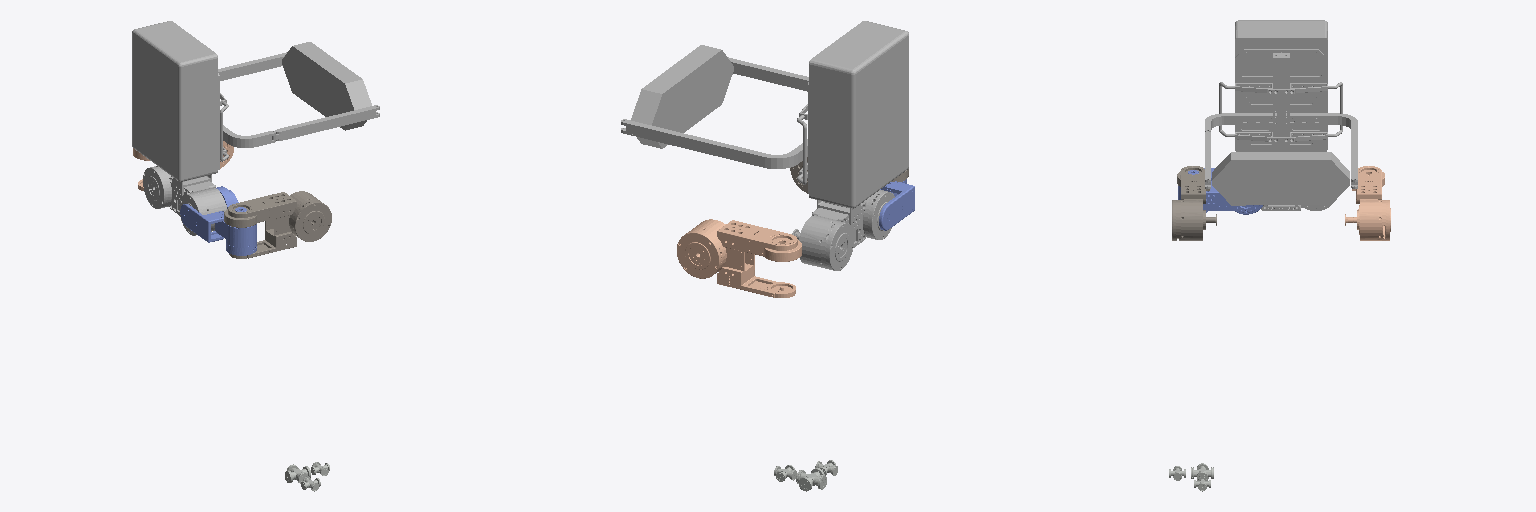
The robot description file, URDF, robot "SIAT":
<?xml version="1.0" encoding="utf-8"?>
<!-- This URDF was automatically created by SolidWorks to URDF Exporter! Originally created by [author] ([email redacted]) 
     Commit Version: 1.6.0-4-g7f85cfe  Build Version: 1.6.7995.38578
     For more information, please see http://wiki.ros.org/sw_urdf_exporter -->
<robot
  name="SIAT">
  <link
    name="base_link">
    <inertial>
      <origin
        xyz="0.32283 0.0054798 0.19053"
        rpy="0 0 0" />
      <mass
        value="11.483" />
      <inertia
        ixx="0.10681"
        ixy="-0.007053"
        ixz="-0.00047763"
        iyy="0.1025"
        iyz="6.0356E-05"
        izz="0.12332" />
    </inertial>
    <visual>
      <origin
        xyz="0 0 0"
        rpy="0 0 0" />
      <geometry>
        <mesh
          filename="../meshes/base_link.STL" />
      </geometry>
      <material
        name="">
        <color
          rgba="0.75294 0.75294 0.75294 1" />
      </material>
    </visual>
    <collision>
      <origin
        xyz="0 0 0"
        rpy="0 0 0" />
      <geometry>
        <mesh
          filename="../meshes/base_link.STL" />
      </geometry>
    </collision>
  </link>
  <link
    name="r_1">
    <inertial>
      <origin
        xyz="0.079905 -0.0081434 0.026887"
        rpy="0 0 0" />
      <mass
        value="2.8322" />
      <inertia
        ixx="0.0025127"
        ixy="0.00039573"
        ixz="-7.1211E-05"
        iyy="0.0065445"
        iyz="-5.6669E-05"
        izz="0.0072351" />
    </inertial>
    <visual>
      <origin
        xyz="0 0 0"
        rpy="0 0 0" />
      <geometry>
        <mesh
          filename="../meshes/r_1.STL" />
      </geometry>
      <material
        name="">
        <color
          rgba="0.5451 0.61569 0.85882 1" />
      </material>
    </visual>
  </link>
  <joint
    name="joint_r_1"
    type="revolute">
    <origin
      xyz="0 0.105 0"
      rpy="1.5708 0 1.5708" />
    <parent
      link="base_link" />
    <child
      link="r_1" />
    <axis
      xyz="0 0 -1" />
    <limit
      lower="-0.5236"
      upper="0.69813"
      effort="300"
      velocity="10" />
  </joint>
  <link
    name="r_2">
    <inertial>
      <origin
        xyz="0.11644 0.0055321 0.028381"
        rpy="0 0 0" />
      <mass
        value="4.2266" />
      <inertia
        ixx="0.0044533"
        ixy="7.1351E-05"
        ixz="-8.8635E-05"
        iyy="0.012089"
        iyz="-2.3903E-05"
        izz="0.012074" />
    </inertial>
    <visual>
      <origin
        xyz="0 0 0"
        rpy="0 0 0" />
      <geometry>
        <mesh
          filename="../meshes/r_2.STL" />
      </geometry>
      <material
        name="">
        <color
          rgba="0.92941 0.76863 0.67059 1" />
      </material>
    </visual>

  </link>
  <joint
    name="joint_r_2"
    type="revolute">
    <origin
      xyz="0.159 0 0"
      rpy="-1.5708 -1.5708 0" />
    <parent
      link="r_1" />
    <child
      link="r_2" />
    <axis
      xyz="0 0 -1" />
    <limit
      lower="-0.38397"
      upper="0.5236"
      effort="300"
      velocity="10" />
  </joint>
  <link
    name="r_3">
    <inertial>
      <origin
        xyz="0.22207 0.00020696 -0.026349"
        rpy="0 0 0" />
      <mass
        value="11.84" />
      <inertia
        ixx="0.014461"
        ixy="-0.00099269"
        ixz="-0.0049046"
        iyy="0.1909"
        iyz="0.00030176"
        izz="0.20128" />
    </inertial>
    <visual>
      <origin
        xyz="0 0 0"
        rpy="0 0 0" />
      <geometry>
        <mesh
          filename="../meshes/r_3.STL" />
      </geometry>
      <material
        name="">
        <color
          rgba="0.8902 0.71765 0.58824 1" />
      </material>
    </visual>

  </link>
  <joint
    name="joint_r_3"
    type="revolute">
    <origin
      xyz="0.205 0 0"
      rpy="-1.5708 1.5708 0" />
    <parent
      link="r_2" />
    <child
      link="r_3" />
    <axis
      xyz="0 0 1" />
    <limit
      lower="-0.69813"
      upper="0.2618"
      effort="300"
      velocity="10" />
  </joint>
  <link
    name="r_4">
    <inertial>
      <origin
        xyz="0.12085 0.011457 -0.024406"
        rpy="0 0 0" />
      <mass
        value="3.321" />
      <inertia
        ixx="0.0027063"
        ixy="-0.00041011"
        ixz="-0.00092136"
        iyy="0.013003"
        iyz="-7.9616E-05"
        izz="0.012137" />
    </inertial>
    <visual>
      <origin
        xyz="0 0 0"
        rpy="0 0 0" />
      <geometry>
        <mesh
          filename="../meshes/r_4.STL" />
      </geometry>
      <material
        name="">
        <color
          rgba="0.75294 1 1 1" />
      </material>
    </visual>

  </link>
  <joint
    name="joint_r_4"
    type="revolute">
    <origin
      xyz="0.44 0 0"
      rpy="0 0 0" />
    <parent
      link="r_3" />
    <child
      link="r_4" />
    <axis
      xyz="0 0 1" />
    <limit
      lower="-0.052399"
      upper="1.2217"
      effort="300"
      velocity="10" />
  </joint>
  <link
    name="r_5">
    <inertial>
      <origin
        xyz="-0.000208 -0.015363 -0.011661"
        rpy="0 0 0" />
      <mass
        value="0.11725" />
      <inertia
        ixx="3.2429E-05"
        ixy="3.1988E-10"
        ixz="6.8398E-11"
        iyy="2.1488E-05"
        iyz="5.1115E-16"
        izz="2.1496E-05" />
    </inertial>
    <visual>
      <origin
        xyz="0 0 0"
        rpy="0 0 0" />
      <geometry>
        <mesh
          filename="../meshes/r_5.STL" />
      </geometry>
      <material
        name="">
        <color
          rgba="0.92157 0.88235 0.64314 1" />
      </material>
    </visual>

  </link>
  <joint
    name="joint_r_5"
    type="revolute">
    <origin
      xyz="0.4 0 0"
      rpy="0 0 0" />
    <parent
      link="r_4" />
    <child
      link="r_5" />
    <axis
      xyz="0 0 1" />
    <limit
      lower="-0.62831"
      upper="0.69813"
      effort="300"
      velocity="10" />
  </joint>
  <link
    name="r_6">
    <inertial>
      <origin
        xyz="0.094957 -0.049767 0.038082"
        rpy="0 0 0" />
      <mass
        value="1.4525" />
      <inertia
        ixx="0.0098192"
        ixy="7.9321E-05"
        ixz="-2.2112E-05"
        iyy="0.0068454"
        iyz="0.0002905"
        izz="0.0033135" />
    </inertial>
    <visual>
      <origin
        xyz="0 0 0"
        rpy="0 0 0" />
      <geometry>
        <mesh
          filename="../meshes/r_6.STL" />
      </geometry>
      <material
        name="">
        <color
          rgba="0.75294 0.75294 0.75294 1" />
      </material>
    </visual>
    <collision>
      <origin
        xyz="0 0 0"
        rpy="0 0 0" />
      <geometry>
        <mesh
          filename="../meshes/r_6.STL" />
      </geometry>
    </collision>
  </link>
  <joint
    name="joint_r_6"
    type="revolute">
    <origin
      xyz="0 0 -0.0275"
      rpy="1.5708 0 0" />
    <parent
      link="r_5" />
    <child
      link="r_6" />
    <axis
      xyz="0 0 -1" />
    <limit
      lower="-0.43633"
      upper="0.34907"
      effort="300"
      velocity="10" />
  </joint>
  <link
    name="l_1">
    <inertial>
      <origin
        xyz="0.08002 0.0081433 0.026963"
        rpy="0 0 0" />
      <mass
        value="2.8322" />
      <inertia
        ixx="0.0025118"
        ixy="-0.00039481"
        ixz="-7.0805E-05"
        iyy="0.0065445"
        iyz="5.728E-05"
        izz="0.007236" />
    </inertial>
    <visual>
      <origin
        xyz="0 0 0"
        rpy="0 0 0" />
      <geometry>
        <mesh
          filename="../meshes/l_1.STL" />
      </geometry>
      <material
        name="">
        <color
          rgba="0.5451 0.61569 0.85882 1" />
      </material>
    </visual>
  </link>
  <joint
    name="joint_l_1"
    type="revolute">
    <origin
      xyz="0 -0.105 0"
      rpy="-1.5708 0 -1.5708" />
    <parent
      link="base_link" />
    <child
      link="l_1" />
    <axis
      xyz="0 0 -1" />
    <limit
      lower="-0.69813"
      upper="0.5236"
      effort="300"
      velocity="10" />
  </joint>
  <link
    name="l_2">
    <inertial>
      <origin
        xyz="0.11644 -0.0055321 0.028383"
        rpy="0 0 0" />
      <mass
        value="4.2266" />
      <inertia
        ixx="0.0044012"
        ixy="-7.2688E-05"
        ixz="-0.00010249"
        iyy="0.012089"
        iyz="2.2164E-05"
        izz="0.012126" />
    </inertial>
    <visual>
      <origin
        xyz="0 0 0"
        rpy="0 0 0" />
      <geometry>
        <mesh
          filename="../meshes/l_2.STL" />
      </geometry>
      <material
        name="">
        <color
          rgba="0.64706 0.61961 0.58824 1" />
      </material>
    </visual>
  </link>
  <joint
    name="joint_l_2"
    type="revolute">
    <origin
      xyz="0.159 0 0"
      rpy="1.5708 -1.5708 0" />
    <parent
      link="l_1" />
    <child
      link="l_2" />
    <axis
      xyz="0 0 -1" />
    <limit
      lower="-0.5236"
      upper="0.38397"
      effort="300"
      velocity="10" />
  </joint>
  <link
    name="l_3">
    <inertial>
      <origin
        xyz="0.22192 0.00017641 0.030643"
        rpy="0 0 0" />
      <mass
        value="11.835" />
      <inertia
        ixx="0.014422"
        ixy="-0.00098286"
        ixz="0.0049082"
        iyy="0.19094"
        iyz="-0.00029818"
        izz="0.20127" />
    </inertial>
    <visual>
      <origin
        xyz="0 0 0"
        rpy="0 0 0" />
      <geometry>
        <mesh
          filename="../meshes/l_3.STL" />
      </geometry>
      <material
        name="">
        <color
          rgba="0.8902 0.71765 0.58824 1" />
      </material>
    </visual>

  </link>
  <joint
    name="joint_l_3"
    type="revolute">
    <origin
      xyz="0.205 -0.0042446 0"
      rpy="-1.5708 1.5708 0" />
    <parent
      link="l_2" />
    <child
      link="l_3" />
    <axis
      xyz="0 0 -1" />
    <limit
      lower="-0.69813"
      upper="0.2618"
      effort="300"
      velocity="10" />
  </joint>
  <link
    name="l_4">
    <inertial>
      <origin
        xyz="0.12027 0.011268 0.028835"
        rpy="0 0 0" />
      <mass
        value="3.3252" />
      <inertia
        ixx="0.0027061"
        ixy="-0.00041124"
        ixz="0.00092324"
        iyy="0.013004"
        iyz="7.962E-05"
        izz="0.012137" />
    </inertial>
    <visual>
      <origin
        xyz="0 0 0"
        rpy="0 0 0" />
      <geometry>
        <mesh
          filename="../meshes/l_4.STL" />
      </geometry>
      <material
        name="">
        <color
          rgba="0.64706 0.61961 0.58824 1" />
      </material>
    </visual>

  </link>
  <joint
    name="joint_l_4"
    type="revolute">
    <origin
      xyz="0.44 0 0"
      rpy="0 0 0" />
    <parent
      link="l_3" />
    <child
      link="l_4" />
    <axis
      xyz="0 0 -1" />
    <limit
      lower="-0.052399"
      upper="1.2217"
      effort="300"
      velocity="10" />
  </joint>
  <link
    name="l_5">
    <inertial>
      <origin
        xyz="-6.4804E-11 -0.015497 0.016136"
        rpy="0 0 0" />
      <mass
        value="0.11805" />
      <inertia
        ixx="3.2455E-05"
        ixy="-3.133E-10"
        ixz="3.7122E-10"
        iyy="2.1552E-05"
        iyz="-1.5081E-15"
        izz="2.1516E-05" />
    </inertial>
    <visual>
      <origin
        xyz="0 0 0"
        rpy="0 0 0" />
      <geometry>
        <mesh
          filename="../meshes/l_5.STL" />
      </geometry>
      <material
        name="">
        <color
          rgba="0.75686 0.76863 0.75294 1" />
      </material>
    </visual>

  </link>
  <joint
    name="joint_l_5"
    type="revolute">
    <origin
      xyz="0.4 0 0"
      rpy="0 0 0" />
    <parent
      link="l_4" />
    <child
      link="l_5" />
    <axis
      xyz="0 0 -1" />
    <limit
      lower="-0.62831"
      upper="0.69813"
      effort="300"
      velocity="10" />
  </joint>
  <link
    name="l_6">
    <inertial>
      <origin
        xyz="0.049726 -0.094974 0.038045"
        rpy="0 0 0" />
      <mass
        value="1.4527" />
      <inertia
        ixx="0.006844"
        ixy="7.9121E-05"
        ixz="-0.00029087"
        iyy="0.0098206"
        iyz="2.2749E-05"
        izz="0.003315" />
    </inertial>
    <visual>
      <origin
        xyz="0 0 0"
        rpy="0 0 0" />
      <geometry>
        <mesh
          filename="../meshes/l_6.STL" />
      </geometry>
      <material
        name="">
        <color
          rgba="0.75294 0.75294 0.75294 1" />
      </material>
    </visual>
    <collision>
      <origin
        xyz="0 0 0"
        rpy="0 0 0" />
      <geometry>
        <mesh
          filename="../meshes/l_6.STL" />
      </geometry>
    </collision>
  </link>
  <joint
    name="joint_l_6"
    type="revolute">
    <origin
      xyz="0 0 0.031745"
      rpy="1.5708 -1.5708 0" />
    <parent
      link="l_5" />
    <child
      link="l_6" />
    <axis
      xyz="0 0 1" />
    <limit
      lower="-0.34907"
      upper="0.43633"
      effort="300"
      velocity="10" />
  </joint>
</robot>

--- What the picture shows (computed from the rendered views, not written in the file) ---
The picture shows the robot from 3 angles, left to right: view 1: azimuth 30°, elevation 25°; view 2: azimuth 150°, elevation 25°; view 3: azimuth 270°, elevation 25°; orthographic projection.
Robot: SIAT — 13 links, 12 joints (12 revolute); root link base_link; default pose: all joints at 0.
Visible links, largest first — view 1: base_link, l_2, l_1, l_5; view 2: base_link, r_2, l_1, l_5; view 3: base_link, r_2, l_2, l_1, l_5.
Link boxes in pixels (x1,y1,x2,y2): base_link: (132,21,379,235); l_2: (224,191,331,258); l_1: (180,186,256,255); l_5: (285,462,329,491); base_link: (621,21,908,270); r_2: (677,219,801,297); l_1: (879,179,914,230); l_5: (774,460,837,491); base_link: (1205,20,1357,210); r_2: (1345,166,1390,240); l_2: (1172,166,1216,240); l_1: (1178,168,1262,214); l_5: (1169,463,1213,491).
Bounding box of the posed robot: 0.62 × 0.6665 × 1.36 m (x, y, z).
Meshes: 13 distinct files referenced, 5 mesh visuals loaded (5 binary STL); not drawn: 8 (reference not matched to a file when rendering).